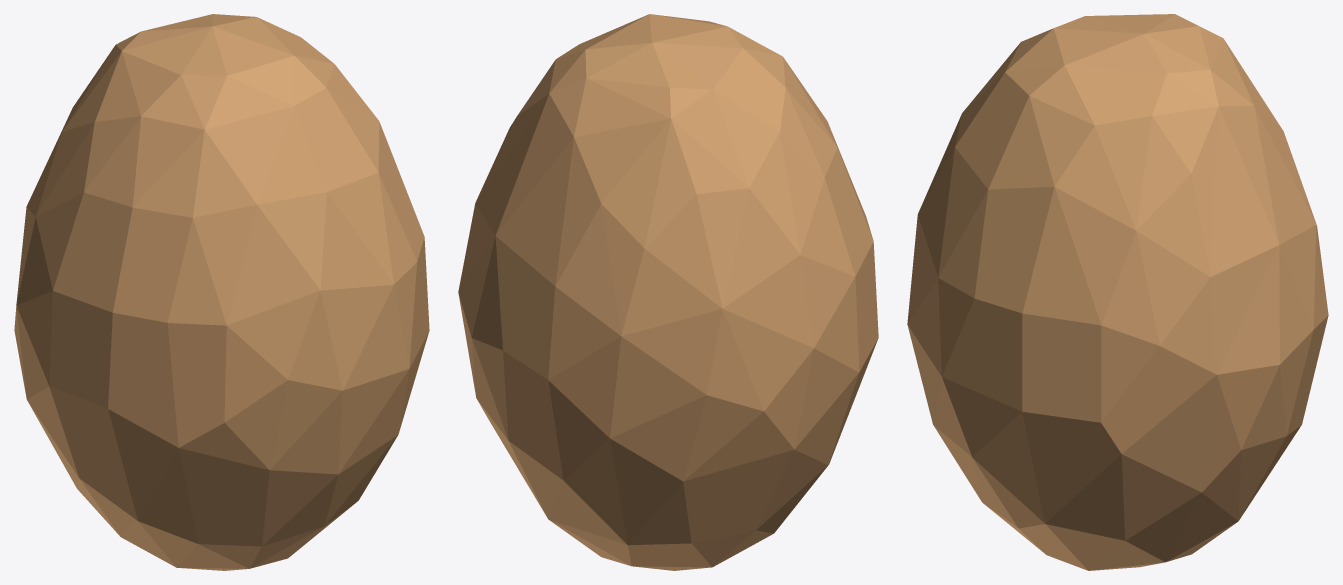
File: fantasy_food_egg.fbx
The picture shows the model from 3 angles, left to right: view 1: azimuth 30°, elevation 25°; view 2: azimuth 150°, elevation 25°; view 3: azimuth 270°, elevation 25°; orthographic projection.
Parts seen in each view (by area): view 1: Sphere; view 2: Sphere; view 3: Sphere.
Boxes of the visible parts, x1,y1,x2,y2 form: Sphere: [14, 14, 429, 570]; Sphere: [458, 14, 878, 570]; Sphere: [907, 14, 1328, 570].
Bounding box in the file's own units: 7.65 × 10.42 × 7.66.
